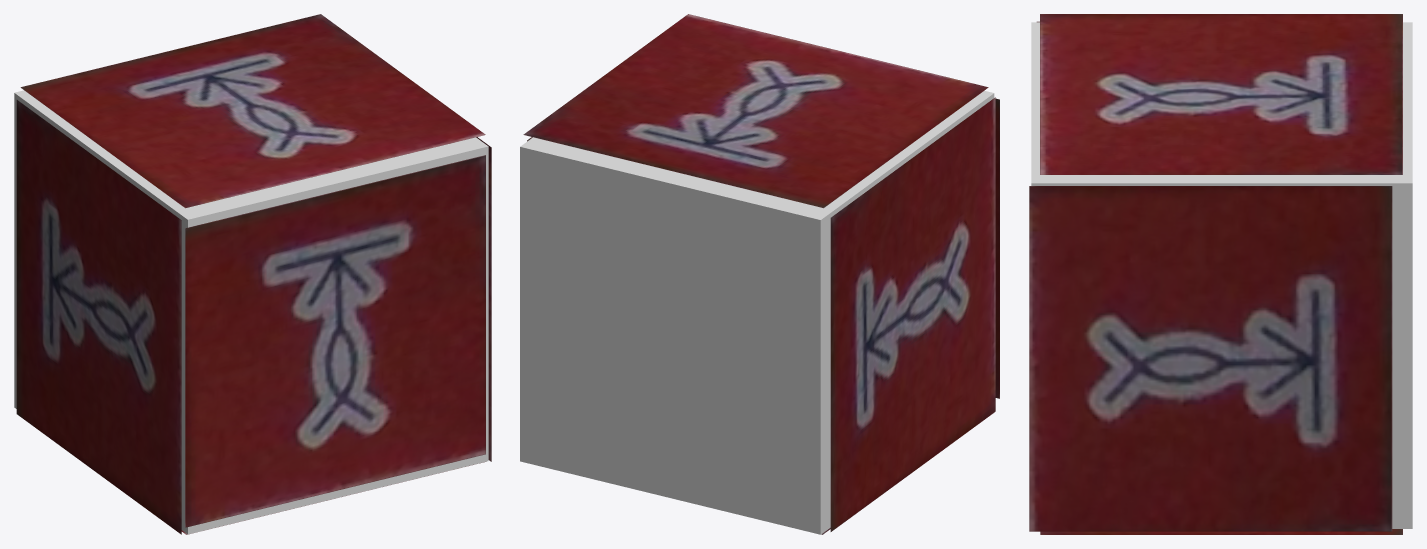
3 renders of one model, left to right at view 1: azimuth 30°, elevation 25°; view 2: azimuth 150°, elevation 25°; view 3: azimuth 270°, elevation 25°, orthographic. The views are drawn at different scales.
Visible parts, largest first — view 1: R2.001, R2.002, R2, Link36, R2.004; view 2: Link36, R2.002, R2, R2.001; view 3: R2.004, R2, Link36, R2.003.
Boxes of the visible parts, x1,y1,x2,y2 form: R2.001: (185,155,485,527); R2.002: (16,100,181,534); R2: (20,14,485,208); Link36: (14,90,488,534); R2.004: (476,137,491,461); Link36: (520,90,994,534); R2.002: (830,97,995,531); R2: (523,14,988,208); R2.001: (995,98,999,398); R2.004: (1029,186,1392,531); R2: (1040,14,1402,174); Link36: (1031,22,1412,528); R2.003: (1040,529,1402,534).
Bounding box in the file's own units: 0.3578 × 0.3529 × 0.3637.
1 material, 1 textured.
